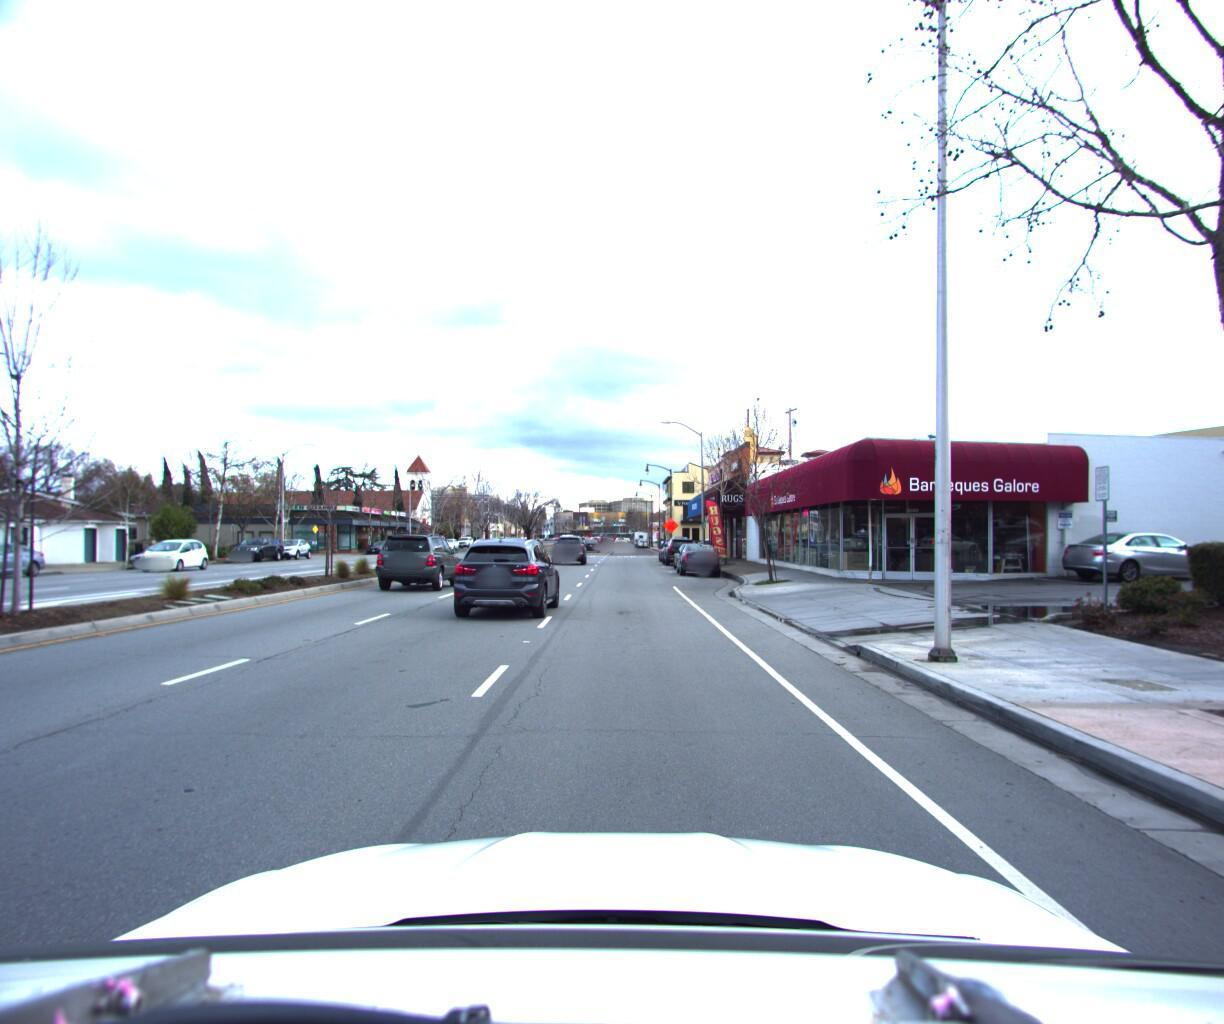car: (449, 524, 563, 615), (1048, 523, 1214, 577), (372, 527, 461, 589), (131, 534, 212, 571), (672, 533, 722, 573), (225, 531, 285, 558), (659, 530, 695, 560), (266, 533, 313, 555), (551, 528, 584, 558), (613, 534, 630, 548)
